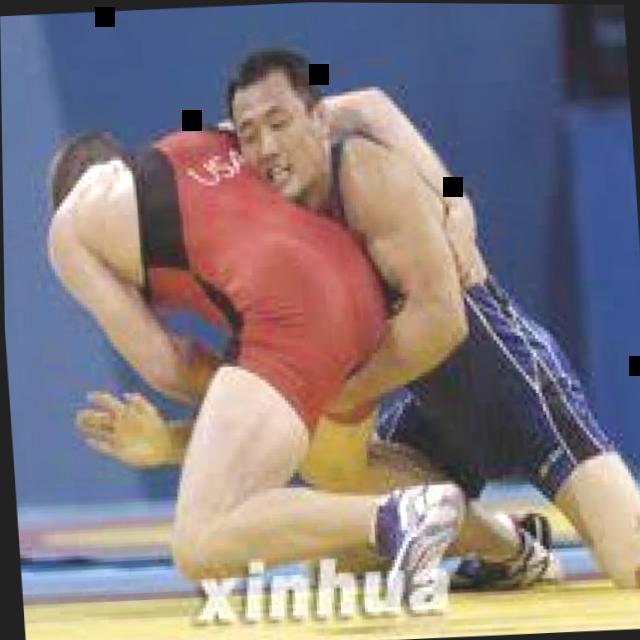Fall-Detected: (7, 30, 620, 622)
